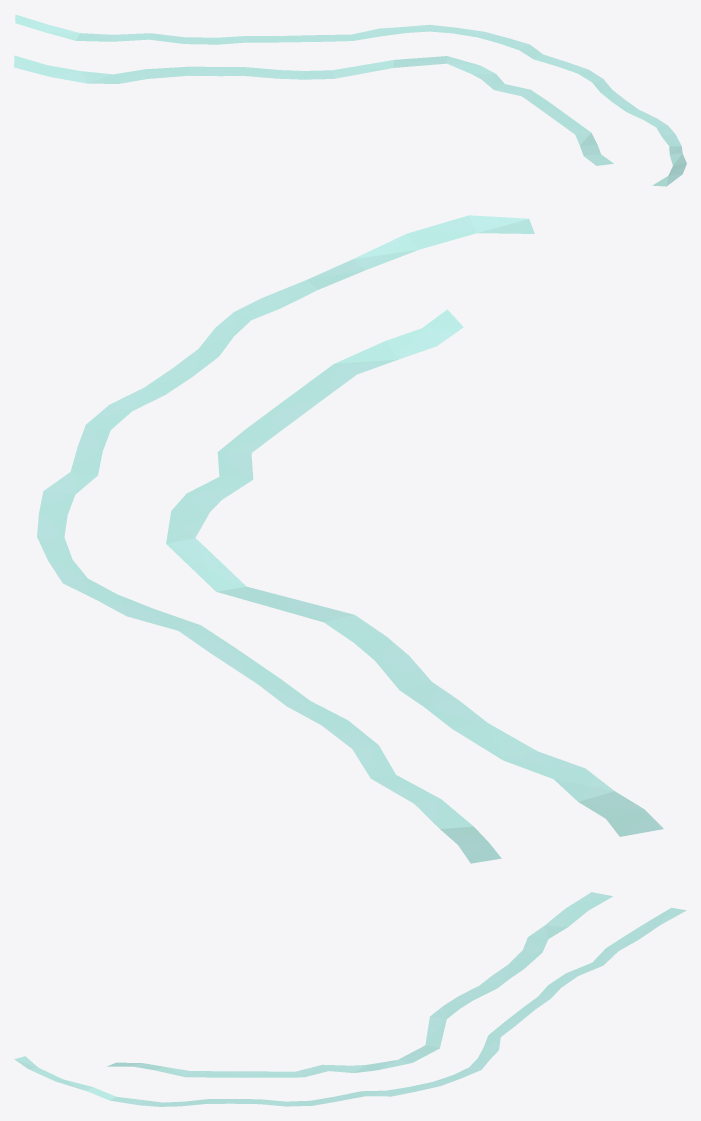
File: watershore.fbx
3 renders of one model, top to bottom at view 1: azimuth 30°, elevation 25°; view 2: azimuth 150°, elevation 25°; view 3: azimuth 270°, elevation 25°, orthographic. The views are drawn at different scales.
Visible parts, largest first — view 1: obj0.172; view 2: obj0.172; view 3: obj0.172.
Boxes of the visible parts, bbox=[...] form: obj0.172: bbox=[14, 14, 686, 186]; obj0.172: bbox=[37, 215, 663, 863]; obj0.172: bbox=[14, 892, 686, 1106].
Size of the model in its own units: 47.12 by 1.98 by 63.74.
